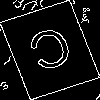C: (24, 25, 80, 81)
